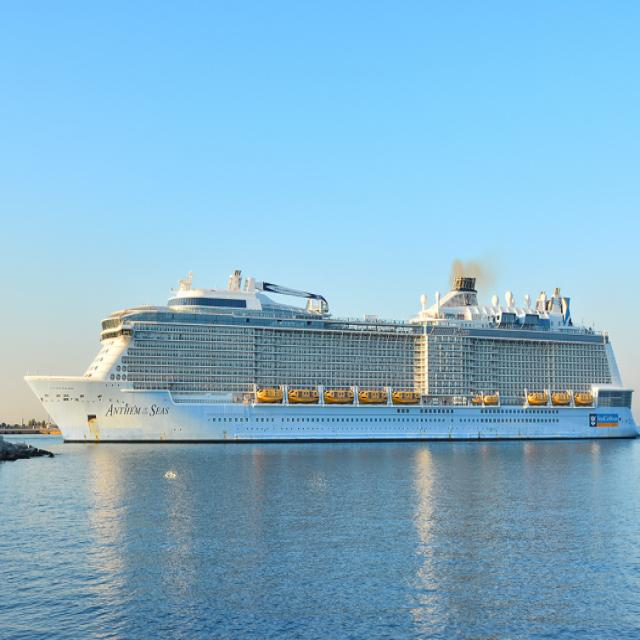cruises: (19, 258, 640, 450)
